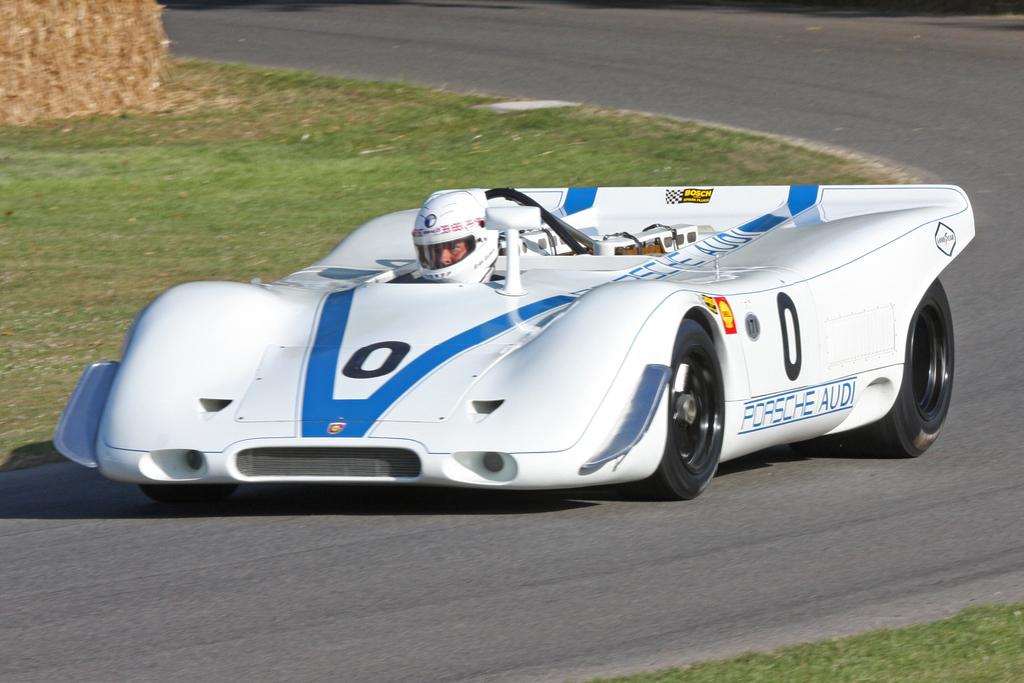helmet: (412, 189, 500, 290)
